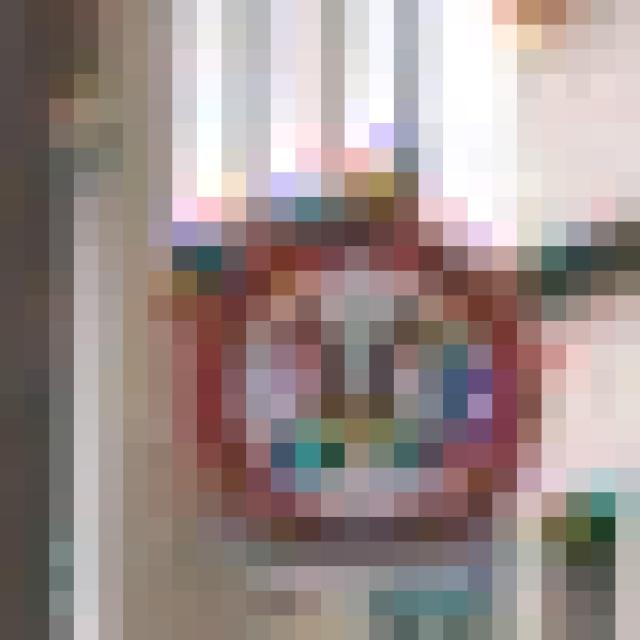Speed Limit 30 KMPh: (98, 148, 591, 590)
